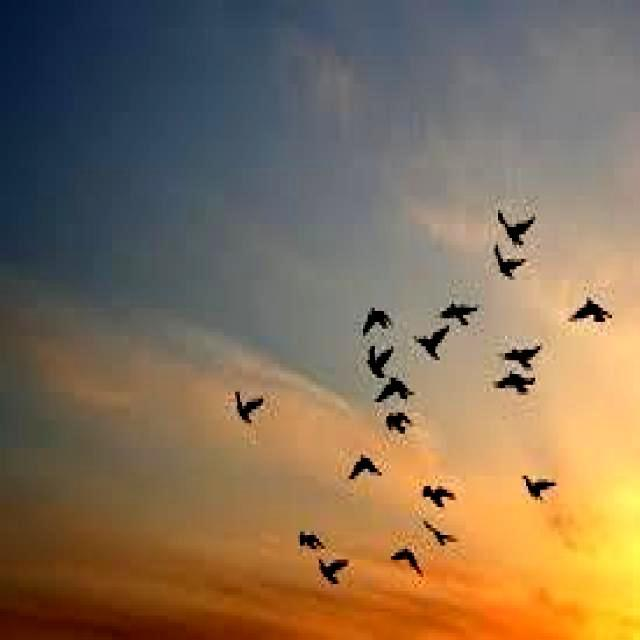bird: (494, 204, 536, 247), (232, 378, 266, 428), (500, 338, 550, 371), (570, 304, 618, 334), (376, 380, 418, 414), (496, 369, 538, 402), (346, 454, 389, 486), (521, 471, 557, 509), (389, 545, 425, 583), (413, 328, 451, 361), (422, 478, 458, 512), (440, 299, 480, 329), (491, 248, 528, 280), (361, 301, 392, 338), (419, 521, 458, 549), (366, 344, 394, 378), (320, 558, 350, 588), (384, 410, 412, 442), (298, 530, 324, 552)
